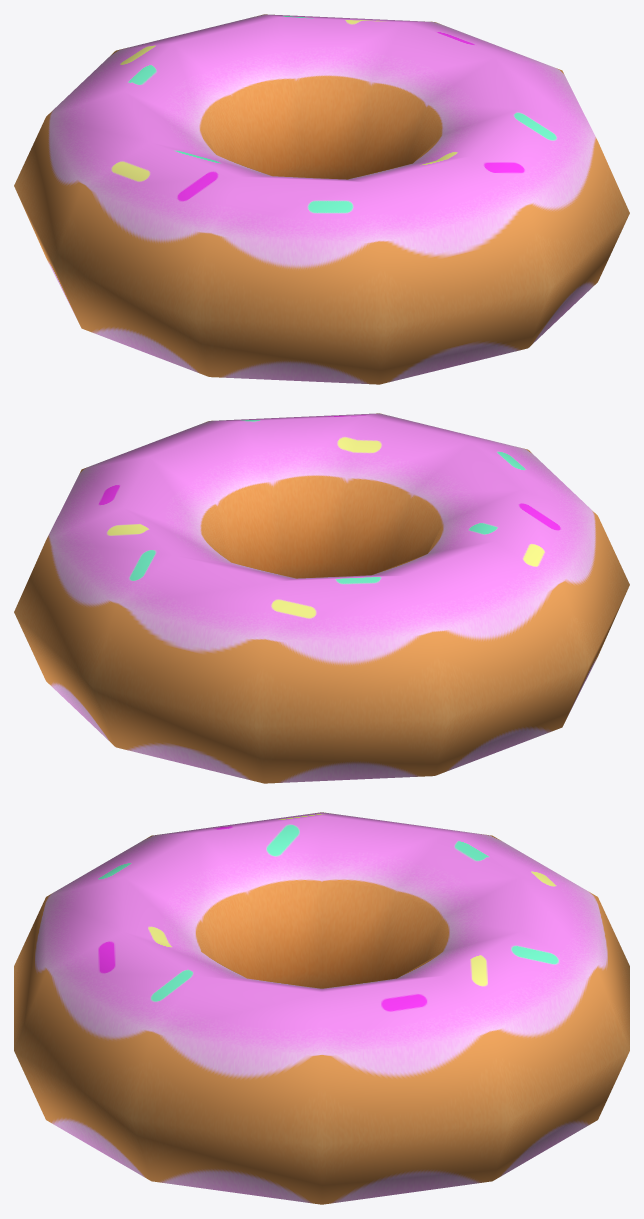
File: Donut.fbx
3 renders of one model, top to bottom at view 1: azimuth 30°, elevation 25°; view 2: azimuth 150°, elevation 25°; view 3: azimuth 270°, elevation 25°, orthographic. The views are drawn at different scales.
Parts seen in each view (by area): view 1: Donut; view 2: Donut; view 3: Donut.
Boxes of the visible parts, left/top/right/bottom form: Donut: left=14, top=14, right=629, bottom=384; Donut: left=14, top=413, right=629, bottom=783; Donut: left=14, top=812, right=629, bottom=1204.
Size of the model in its own units: 383 by 136 by 364.
